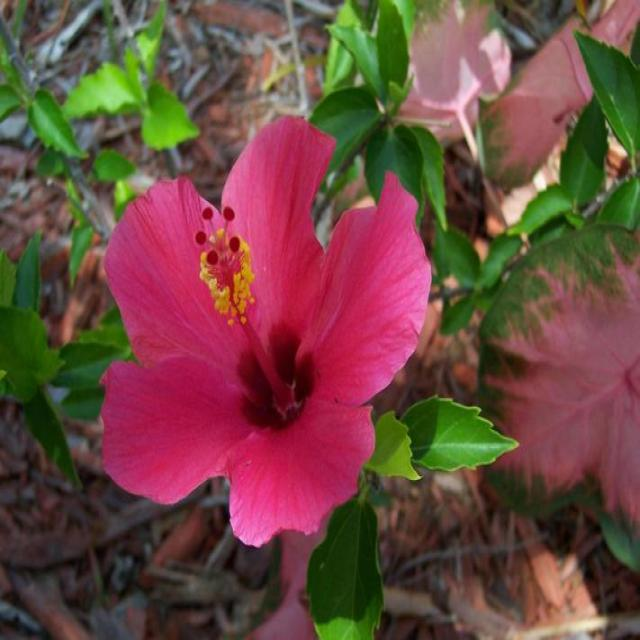hibiscus: (73, 103, 469, 567)
